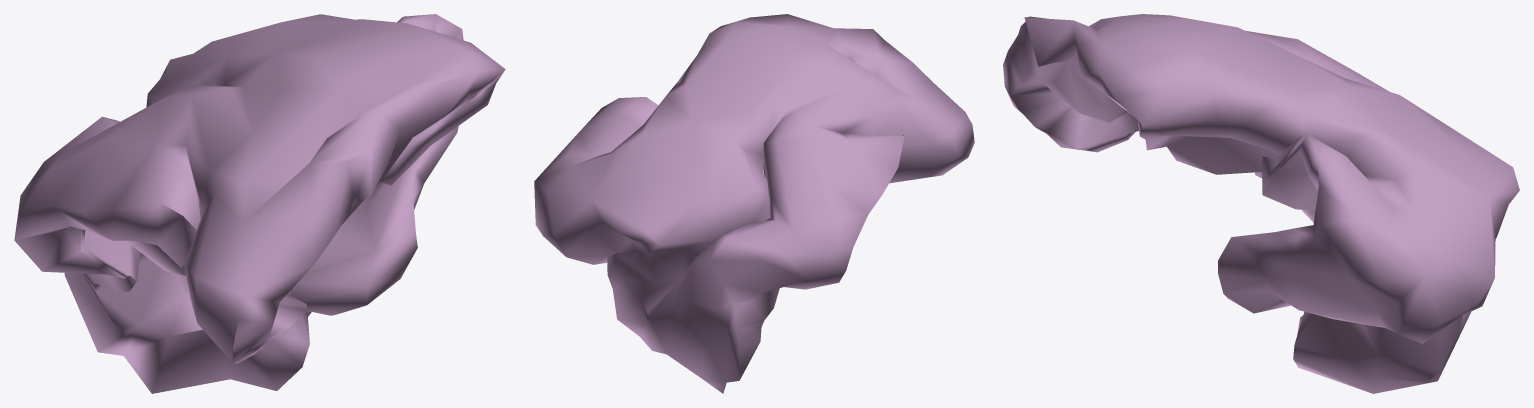
3 renders of one model, left to right at view 1: azimuth 30°, elevation 25°; view 2: azimuth 150°, elevation 25°; view 3: azimuth 270°, elevation 25°, orthographic. The views are drawn at different scales.
Visible parts, largest first — view 1: 右侧枕极; view 2: 右侧枕极; view 3: 右侧枕极.
Part boxes in pixels (<box>): 右侧枕极: <box>14,14,505,393</box>; 右侧枕极: <box>534,14,974,393</box>; 右侧枕极: <box>1003,14,1519,393</box>.
Bounding box in the file's own units: 0.0466 × 0.0418 × 0.0509.
